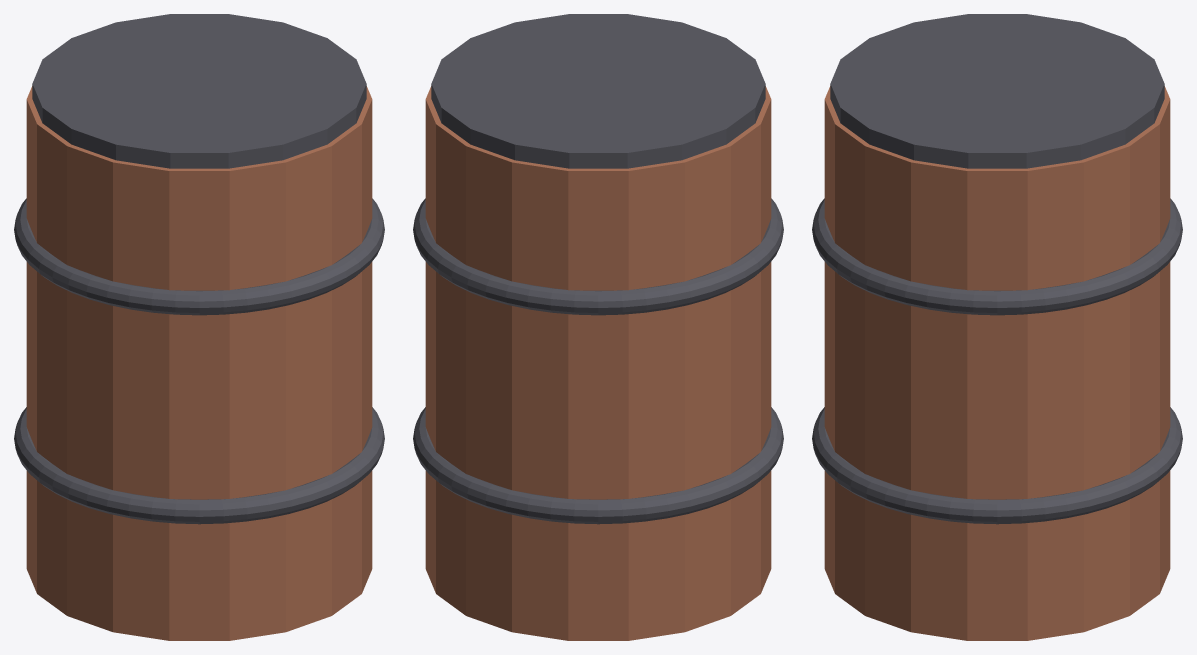
The model's file is bt-d2-barrel.glb.
3 renders of one model, left to right at view 1: azimuth 30°, elevation 25°; view 2: azimuth 150°, elevation 25°; view 3: azimuth 270°, elevation 25°, orthographic.
Visible parts, largest first — view 1: bt-d2-barrel_body, bt-d2-barrel_lid, bt-d2-barrel_rib0.65, bt-d2-barrel_rib0.25; view 2: bt-d2-barrel_body, bt-d2-barrel_lid, bt-d2-barrel_rib0.65, bt-d2-barrel_rib0.25; view 3: bt-d2-barrel_body, bt-d2-barrel_lid, bt-d2-barrel_rib0.65, bt-d2-barrel_rib0.25.
Boxes of the visible parts, x1,y1,x2,y2 form: bt-d2-barrel_body: [26, 86, 372, 640]; bt-d2-barrel_lid: [32, 14, 366, 168]; bt-d2-barrel_rib0.65: [14, 198, 384, 315]; bt-d2-barrel_rib0.25: [14, 407, 384, 524]; bt-d2-barrel_body: [425, 86, 771, 640]; bt-d2-barrel_lid: [431, 14, 765, 168]; bt-d2-barrel_rib0.65: [413, 198, 783, 315]; bt-d2-barrel_rib0.25: [413, 407, 783, 524]; bt-d2-barrel_body: [824, 86, 1170, 640]; bt-d2-barrel_lid: [830, 14, 1164, 168]; bt-d2-barrel_rib0.65: [812, 198, 1182, 315]; bt-d2-barrel_rib0.25: [812, 407, 1182, 524].
Bounding box in the file's own units: 0.644 × 0.93 × 0.644.
